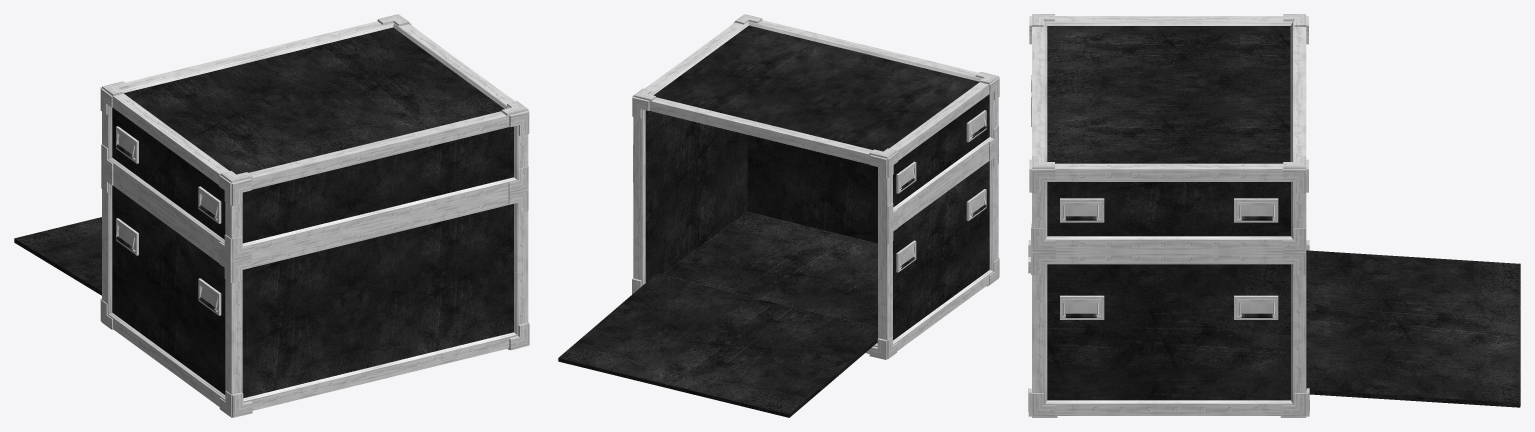
The model's file is flight_case_big_op.fbx.
The picture shows the model from 3 angles, left to right: view 1: azimuth 30°, elevation 25°; view 2: azimuth 150°, elevation 25°; view 3: azimuth 270°, elevation 25°; orthographic projection. The views are drawn at different scales.
Parts seen in each view (by area): view 1: flight_case_big_op; view 2: flight_case_big_op; view 3: flight_case_big_op.
Boxes of the visible parts, x1,y1,x2,y2 form: flight_case_big_op: [14, 14, 529, 417]; flight_case_big_op: [558, 14, 999, 417]; flight_case_big_op: [1028, 14, 1520, 417].
Size of the model in its own units: 1.65 by 1.24 by 2.2.
